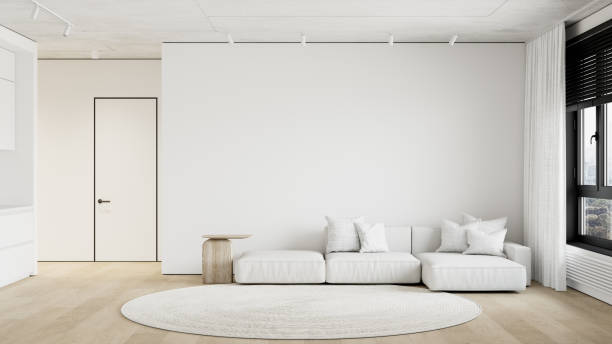side table: (200, 229, 247, 284)
sofa: (234, 212, 532, 295)
